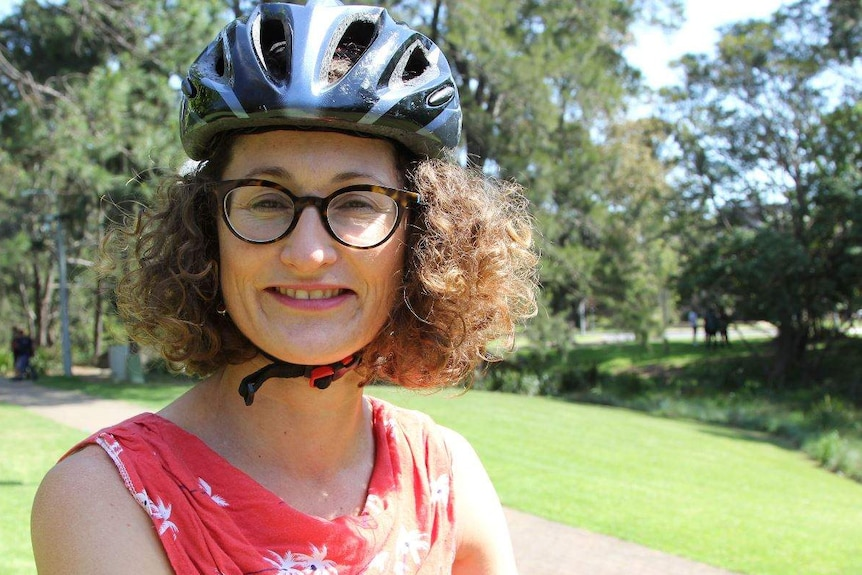helmet: (178, 1, 464, 366)
